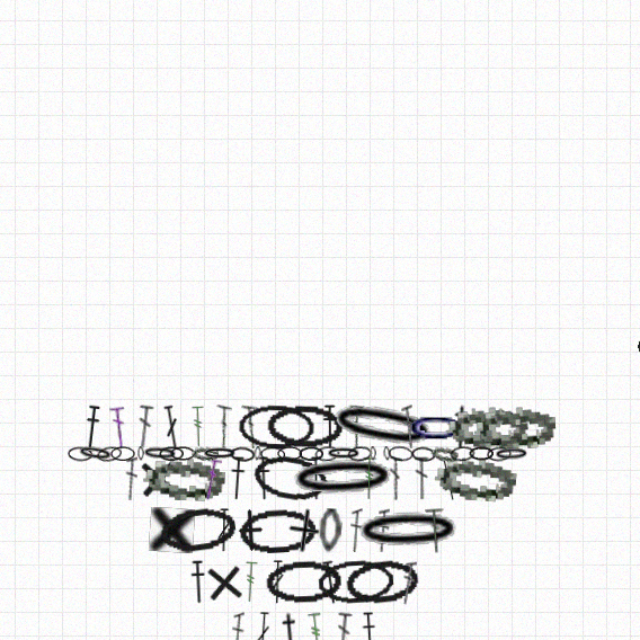chain: (338, 354, 441, 409), (305, 406, 404, 449), (363, 453, 462, 495), (272, 403, 344, 452), (190, 450, 261, 497), (470, 360, 544, 404), (435, 406, 509, 449), (355, 497, 424, 542), (446, 361, 519, 403), (177, 407, 250, 448), (331, 498, 400, 541), (261, 453, 331, 495), (261, 361, 330, 402), (285, 499, 353, 540), (286, 361, 354, 402), (410, 362, 464, 401), (332, 454, 354, 494), (118, 397, 151, 414), (176, 398, 208, 413), (327, 583, 359, 597), (488, 399, 520, 413), (229, 399, 261, 412), (339, 399, 371, 412), (432, 398, 457, 414), (135, 398, 159, 414), (329, 398, 352, 413), (358, 398, 381, 413), (394, 398, 417, 413), (449, 398, 472, 413), (251, 583, 275, 596), (220, 399, 244, 412), (276, 583, 298, 597), (110, 399, 132, 413), (254, 399, 276, 413), (281, 399, 303, 413), (415, 399, 437, 413), (482, 399, 504, 413), (310, 628, 335, 640), (321, 583, 343, 596), (349, 583, 371, 596), (148, 399, 170, 412), (191, 399, 213, 412), (201, 399, 223, 412), (296, 399, 318, 412), (315, 399, 337, 412), (466, 399, 488, 412), (288, 628, 311, 640), (261, 629, 285, 640), (279, 628, 301, 640), (265, 583, 283, 597), (345, 629, 367, 640), (240, 583, 258, 596), (295, 583, 313, 596), (369, 583, 387, 596), (326, 629, 345, 640), (314, 583, 322, 596), (275, 399, 282, 412), (390, 399, 397, 412), (308, 629, 316, 640), (172, 399, 178, 412), (378, 399, 384, 412)
double: (427, 454, 446, 494), (228, 408, 247, 448), (193, 362, 212, 402), (147, 362, 164, 402), (170, 362, 187, 402), (264, 362, 281, 401), (347, 546, 363, 586), (405, 500, 420, 540), (276, 546, 291, 585), (241, 362, 256, 401), (358, 362, 373, 401), (301, 592, 315, 631), (289, 500, 303, 539), (406, 362, 420, 401), (324, 592, 337, 631), (242, 454, 255, 493), (394, 408, 407, 447), (418, 408, 431, 447), (255, 546, 267, 585), (360, 454, 372, 493), (384, 454, 396, 493), (161, 408, 172, 447)
half_double: (447, 362, 472, 402), (296, 546, 319, 586), (333, 500, 353, 540), (122, 362, 141, 402), (369, 546, 386, 585), (252, 408, 269, 447), (218, 500, 234, 539), (276, 408, 292, 447), (323, 408, 338, 447), (335, 362, 350, 401)
noise: (614, 301, 632, 319), (11, 83, 28, 100)
single: (228, 499, 270, 541), (182, 453, 223, 494), (252, 453, 293, 494), (170, 407, 211, 448), (302, 453, 337, 495), (340, 592, 370, 631)
treble: (438, 408, 458, 448), (322, 546, 339, 586), (265, 500, 280, 539), (277, 592, 291, 631), (371, 408, 385, 447), (219, 362, 233, 401)
